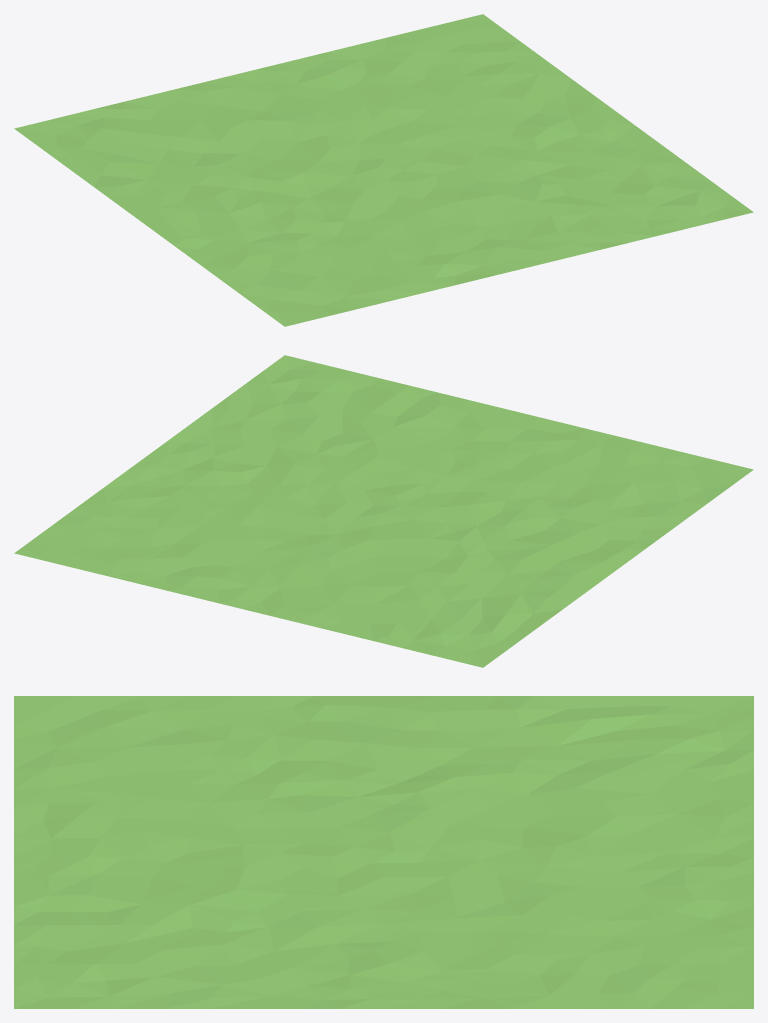
Rendered from terrain000.fbx.
The picture shows the model from 3 angles, top to bottom: view 1: azimuth 30°, elevation 25°; view 2: azimuth 150°, elevation 25°; view 3: azimuth 270°, elevation 25°; orthographic projection. The views are drawn at different scales.
Parts seen in each view (by area): view 1: CPT_Terrain_M_a_01; view 2: CPT_Terrain_M_a_01; view 3: CPT_Terrain_M_a_01.
Part boxes in pixels (x1=…): CPT_Terrain_M_a_01: x1=14, y1=14, x2=753, y2=326; CPT_Terrain_M_a_01: x1=14, y1=355, x2=753, y2=667; CPT_Terrain_M_a_01: x1=14, y1=696, x2=753, y2=1008.
Bounding box in the file's own units: 5000 × 5000 × 20.
Materials: 1 (1 with a texture image).
